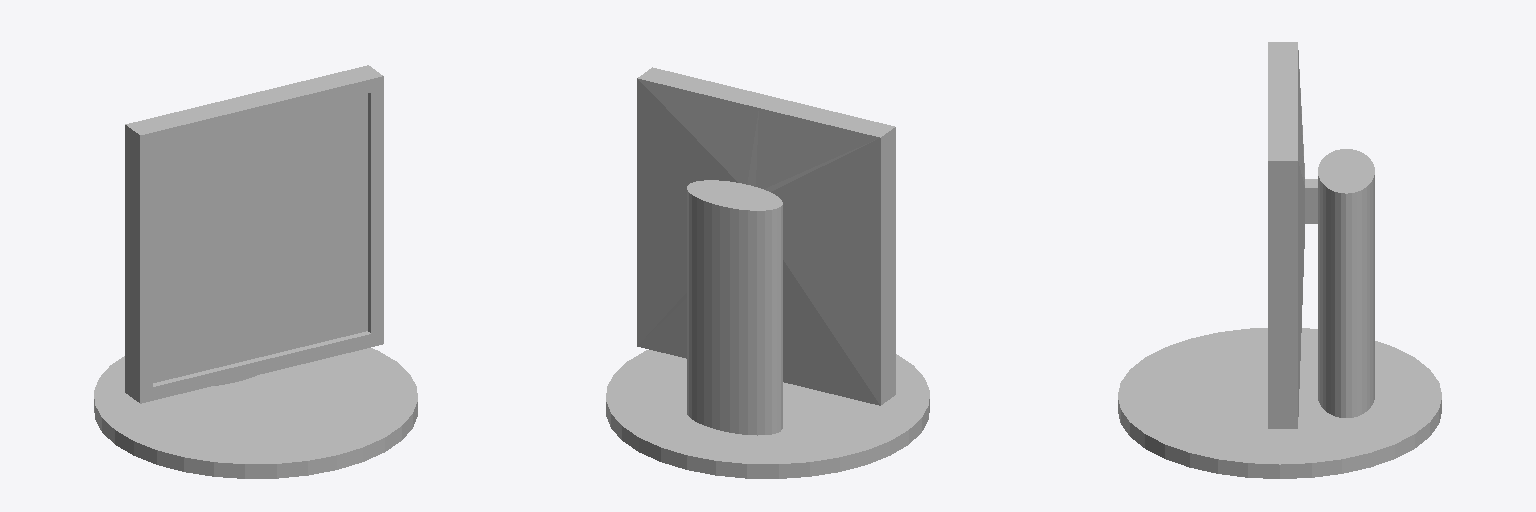
Rendered from Screen.obj.
3 views of the same model, side by side, from view 1: azimuth 30°, elevation 25°; view 2: azimuth 150°, elevation 25°; view 3: azimuth 270°, elevation 25° (orthographic).
Visible parts, largest first — view 1: Cylinder_Cylinder.004; view 2: Cylinder_Cylinder.004; view 3: Cylinder_Cylinder.004.
Boxes of the visible parts, box(x1,y1,x2,y2) form: Cylinder_Cylinder.004: box(94, 65, 417, 478); Cylinder_Cylinder.004: box(606, 67, 929, 478); Cylinder_Cylinder.004: box(1118, 42, 1441, 478).
Bounding box in the file's own units: 0.3268 × 0.3432 × 0.3268.